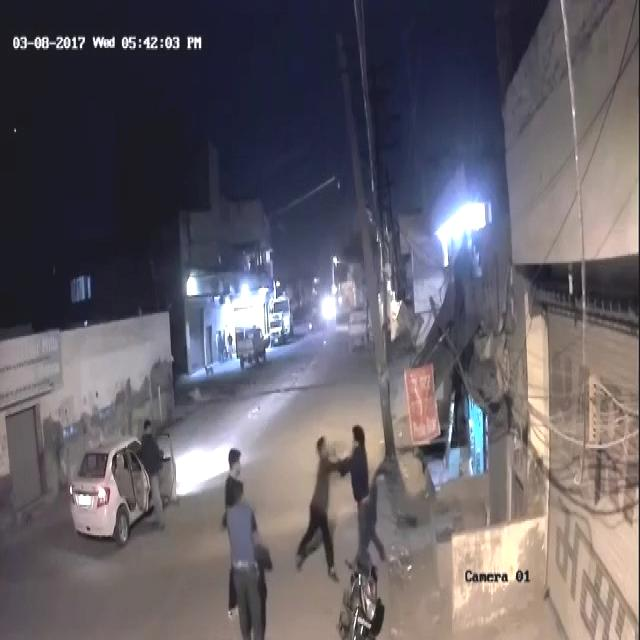fight: (294, 425, 387, 584)
